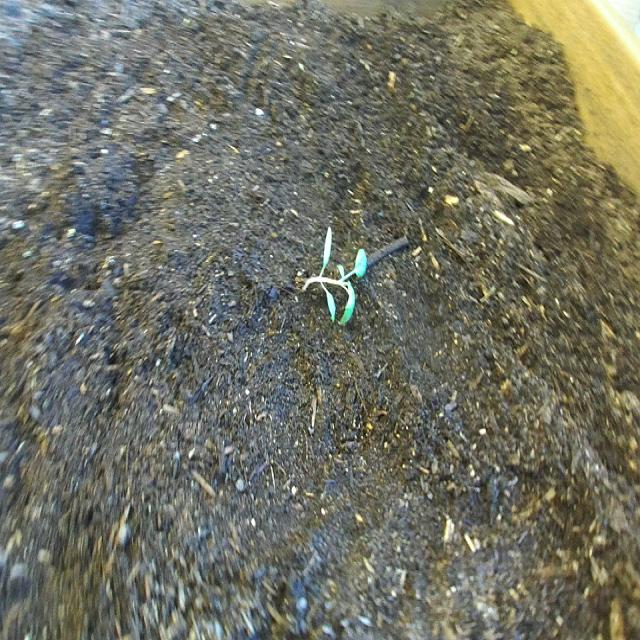Healthy: (300, 223, 371, 334)
